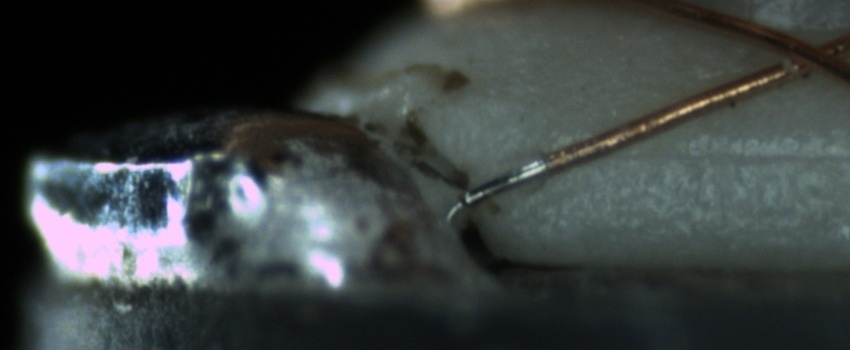CL: (758, 25, 848, 86)
DL: (604, 122, 848, 188)
TS: (462, 157, 550, 211)
